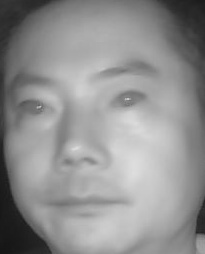eye: (108, 86, 152, 112), (16, 96, 56, 121)
mouth: (45, 182, 128, 224)
